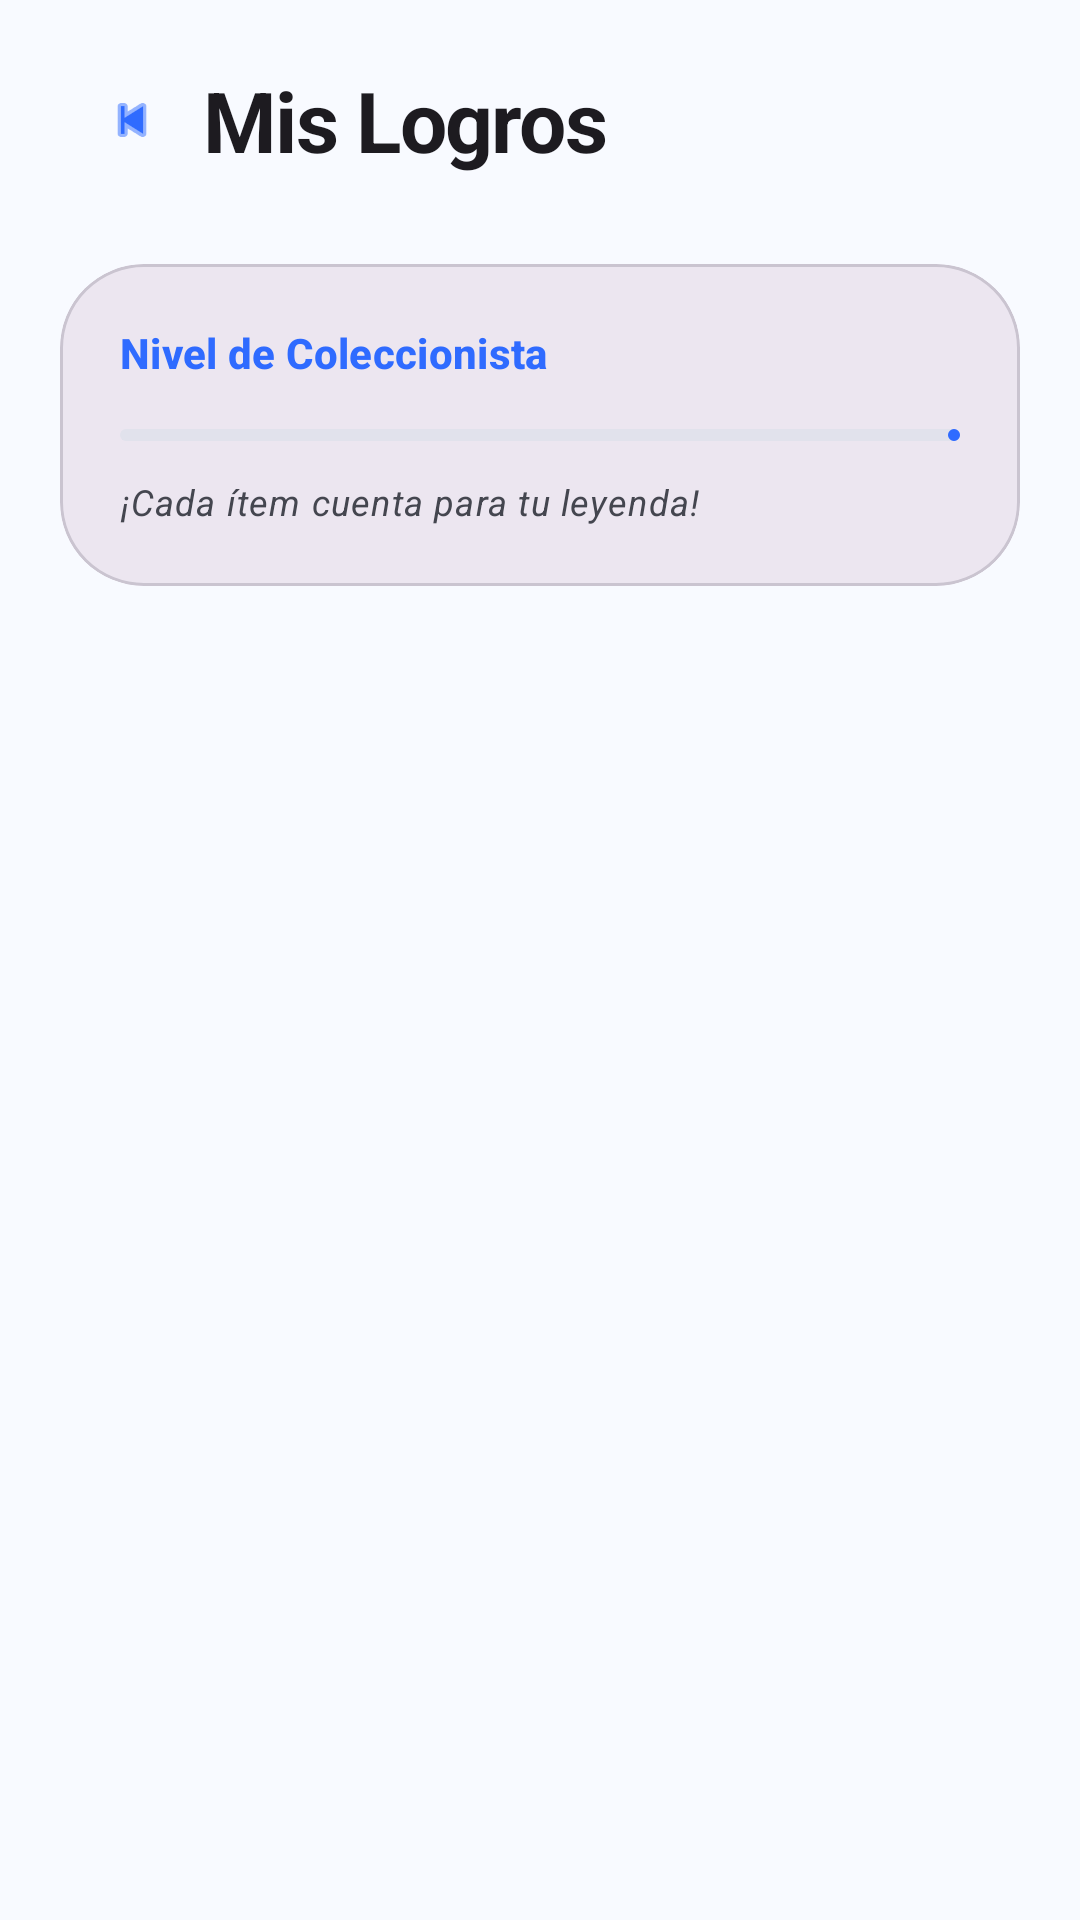

Where to tap for icons on this 1080px x 1920px app screen, as (x=x, y=y):
previous: (x=132, y=120)
